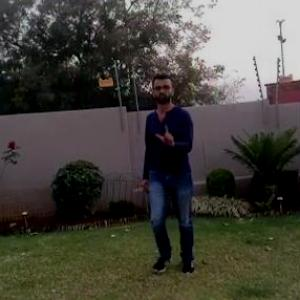land_hand: (154, 117, 180, 150)
